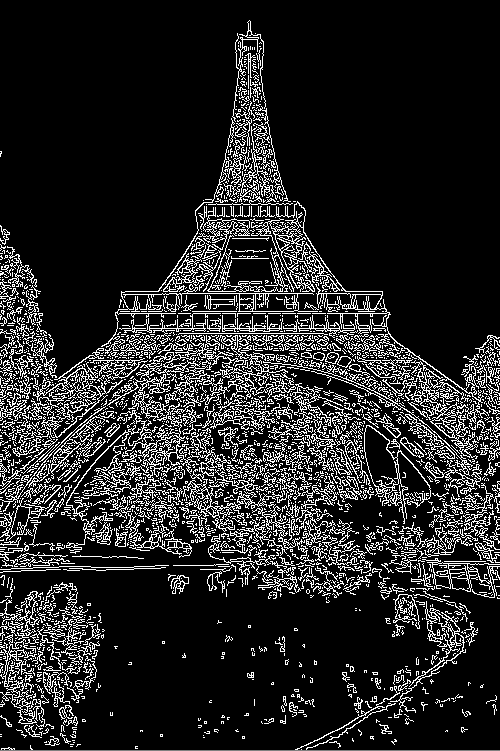eiffel tower: (21, 8, 492, 529)
